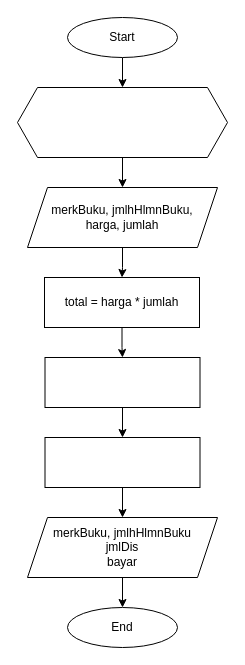
Image size: 245x665. Some labels were removed from this diagram. Each missing label, with the centre of its shape:
bayar = total - jmlDis: (x=122, y=462)
jmlDis = total * dis: (x=122, y=382)
String merkBuku int harga, jumlah, jmlhHlmnBuku double dis, total, bayar, jmlDis: (x=122, y=122)
